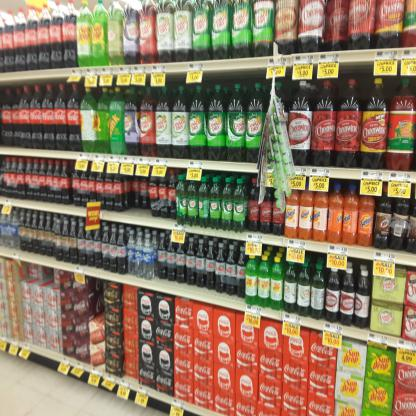Void: (126, 172, 148, 214), (89, 277, 103, 324)
